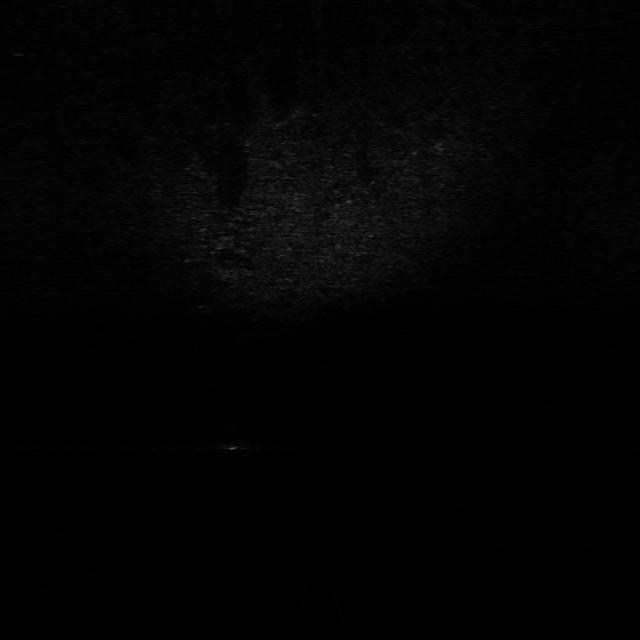ball: (217, 424, 247, 451)
